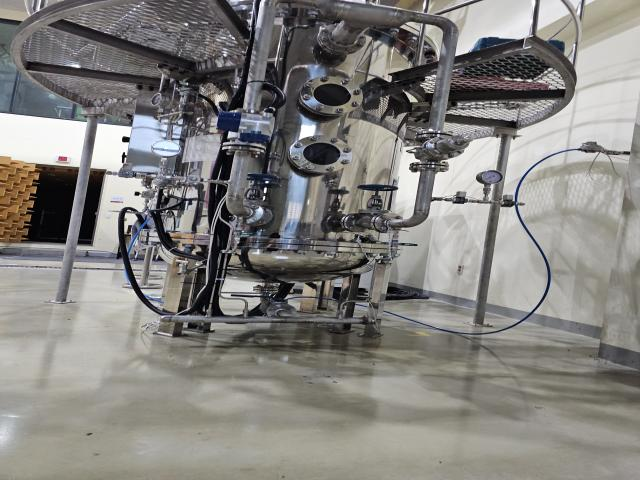Flange: (299, 75, 363, 116), (289, 134, 353, 174)
Flush Ring: (318, 23, 366, 54), (223, 201, 265, 224), (222, 141, 268, 157), (371, 213, 404, 234), (267, 303, 298, 321), (414, 130, 456, 143), (343, 213, 370, 233), (410, 161, 450, 173)
GasRegulator: (150, 87, 213, 134)
Nuts: (445, 195, 472, 206), (494, 198, 521, 208), (182, 174, 206, 185), (115, 169, 136, 179)
Piston Valve: (356, 184, 398, 214), (244, 172, 278, 206)
Pressure Gage: (152, 140, 182, 178), (476, 170, 504, 201)
